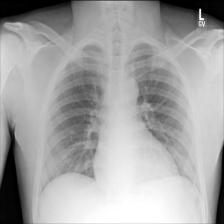normal: (38, 38, 204, 194)
